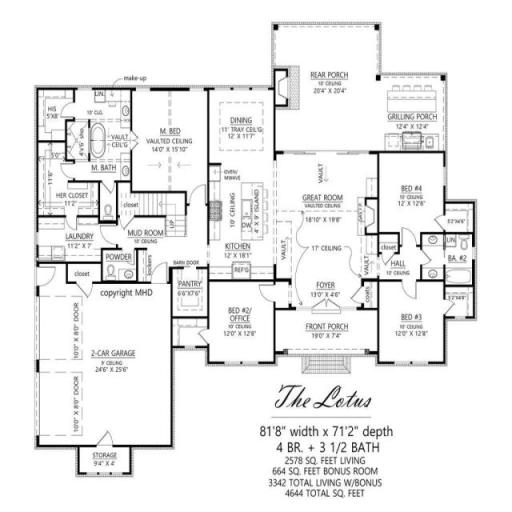Room: (111, 224, 172, 245)
bathroom: (72, 113, 132, 184)
bedroom: (381, 285, 449, 363), (209, 282, 272, 360), (382, 153, 445, 231)
garage: (39, 283, 173, 447)
hall: (277, 158, 363, 306), (383, 234, 430, 278)
kitchen: (213, 94, 270, 275)
laundary: (37, 218, 114, 262)
porch: (272, 26, 382, 154), (383, 76, 442, 149), (276, 313, 376, 356)
